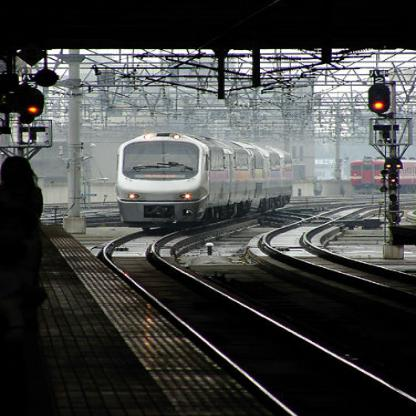train: (113, 130, 294, 233), (348, 159, 415, 192)
